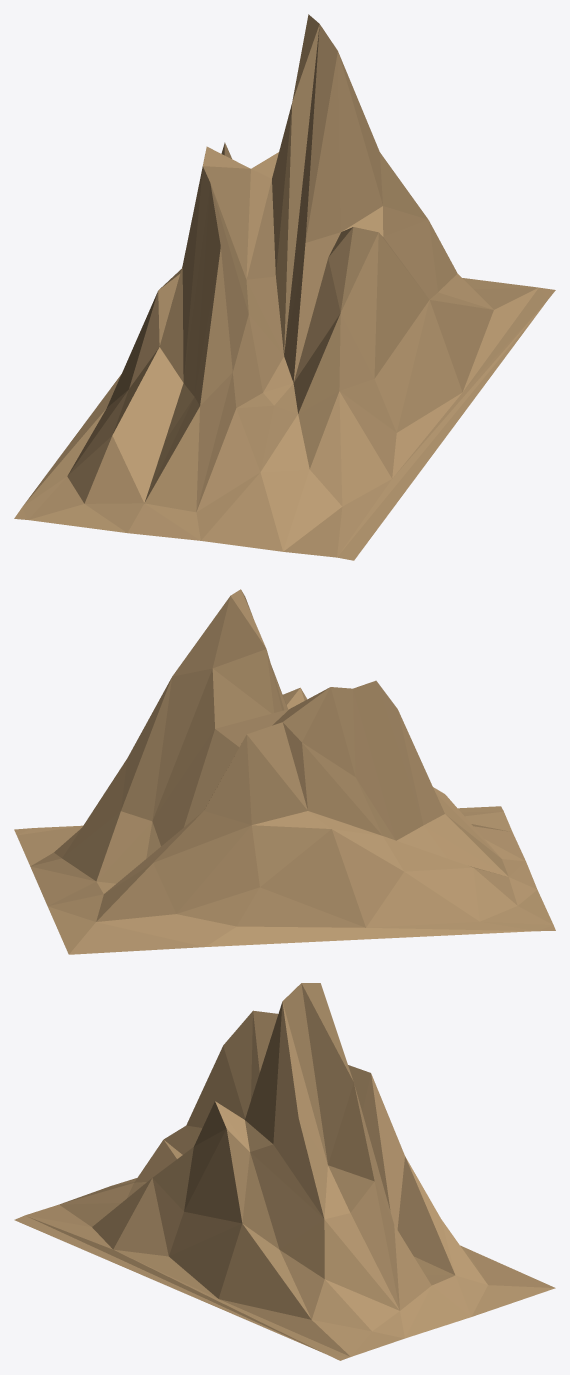
Rendered from mountain-small.gltf.
3 views of the same model, one above another, from view 1: azimuth 30°, elevation 25°; view 2: azimuth 150°, elevation 25°; view 3: azimuth 270°, elevation 25° (orthographic). The views are drawn at different scales.
Visible parts, largest first — view 1: mountain-small; view 2: mountain-small; view 3: mountain-small.
Boxes of the visible parts, <box> form: mountain-small: <box>14,14,555,560</box>; mountain-small: <box>14,589,555,954</box>; mountain-small: <box>14,983,555,1360</box>.
Bounding box in the file's own units: 5.13 × 3.02 × 4.95.
